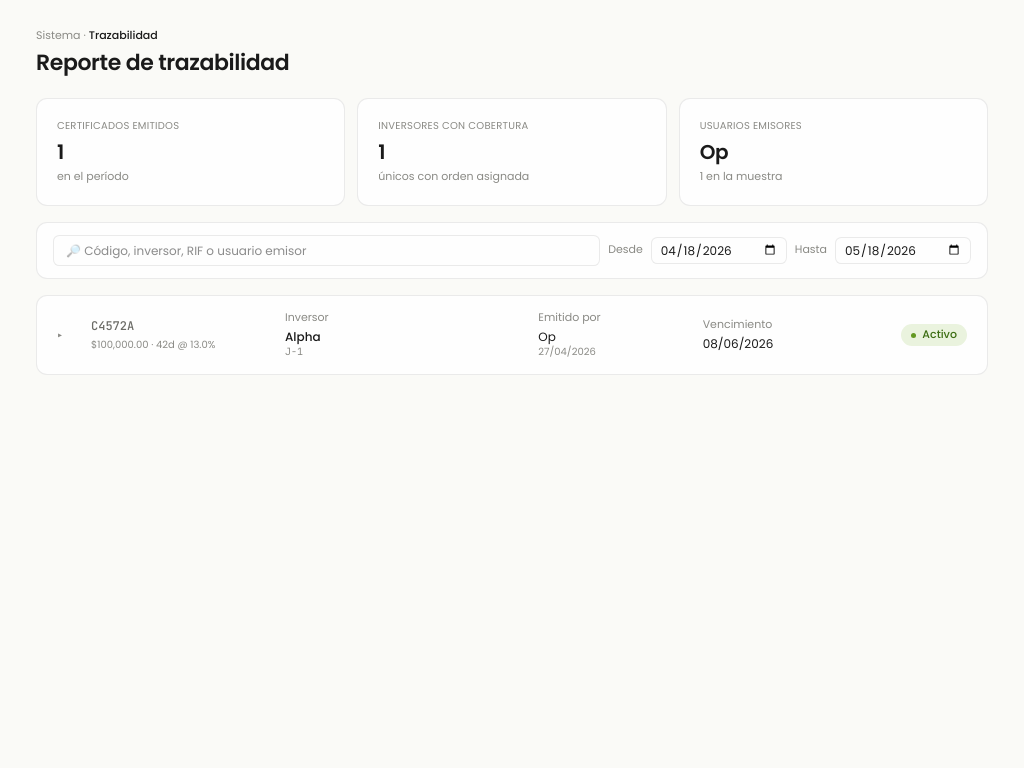
it: <TraceabilityPage /> › clicking an order opens the inspector
Click the text "C4572A".
click(113, 326)  # box [91,318,134,334]
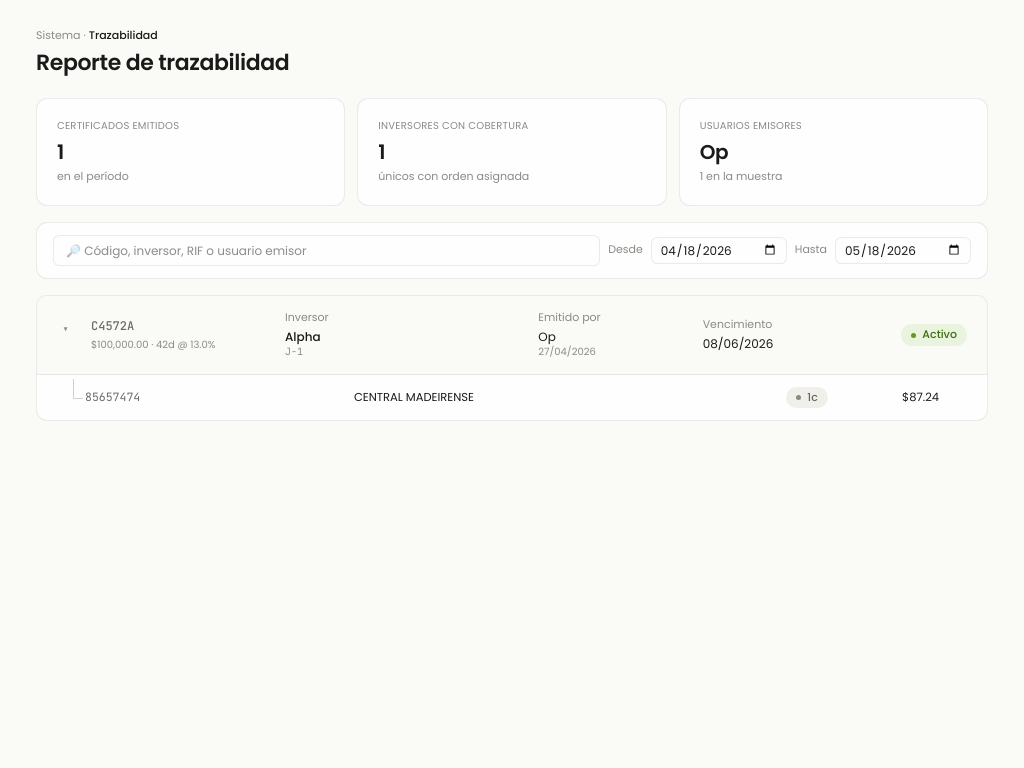
Now the text "85657474" is shown
Click the text "85657474".
click(113, 397)  # box [85,389,140,404]
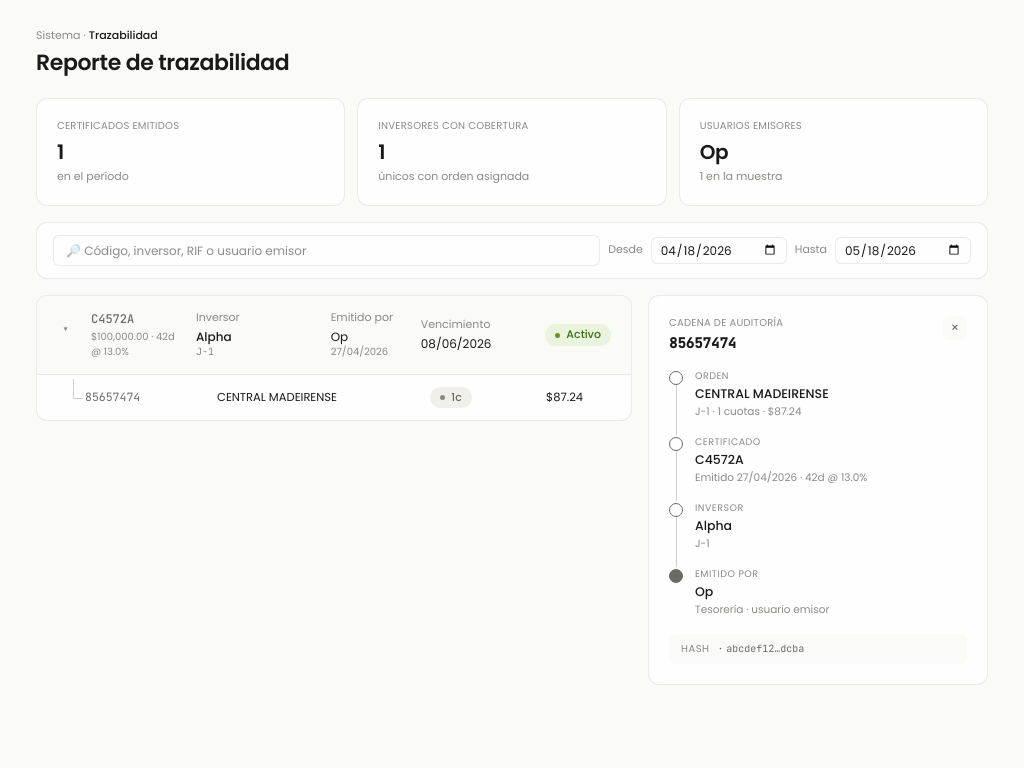
Now the text "ORDEN" is shown, box [695,369,729,382]
Now the text "Cadena de auditoría" is shown, box [669,316,783,331]
